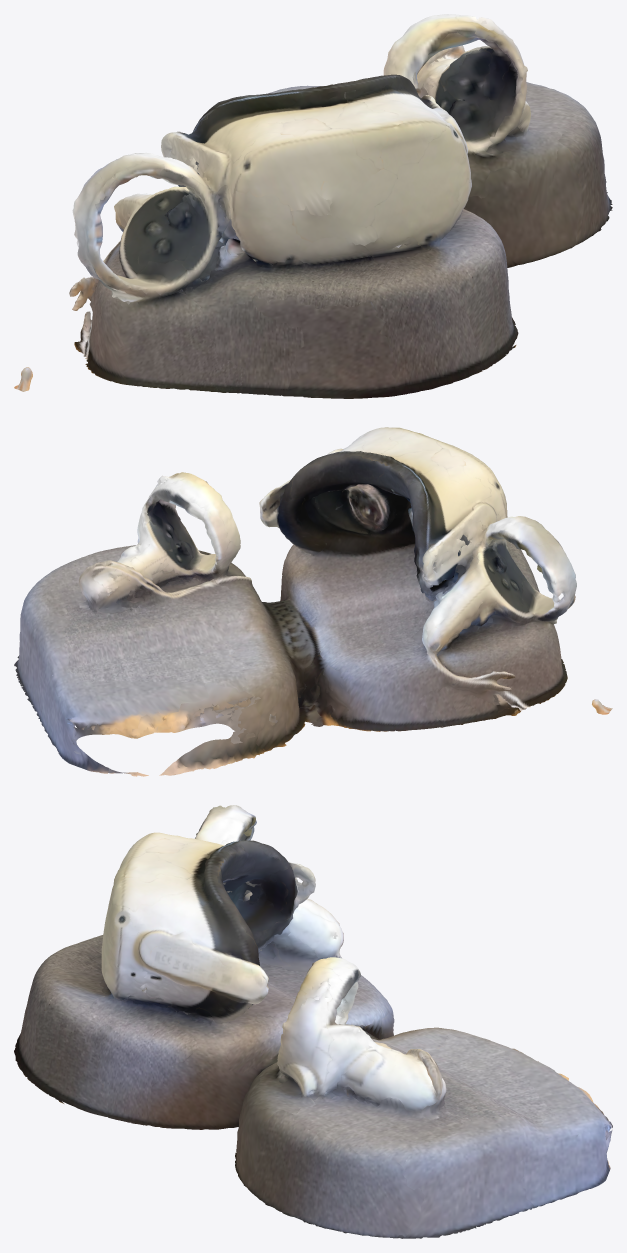
Rendered from meta_quest_2 (1).glb.
3 renders of one model, top to bottom at view 1: azimuth 30°, elevation 25°; view 2: azimuth 150°, elevation 25°; view 3: azimuth 270°, elevation 25°, orthographic. The views are drawn at different scales.
Visible parts, largest first — view 1: Object_4, Object_5; view 2: Object_4, Object_5; view 3: Object_4, Object_5.
Part boxes in pixels (x1,y1,x2,y2): Object_4: [14, 14, 585, 395]; Object_5: [30, 29, 612, 398]; Object_4: [14, 427, 612, 776]; Object_5: [36, 427, 568, 727]; Object_4: [104, 805, 612, 1238]; Object_5: [14, 834, 438, 1238].
Bounding box in the file's own units: 0.5046 × 0.2001 × 0.4501.
1 material, 1 textured.
